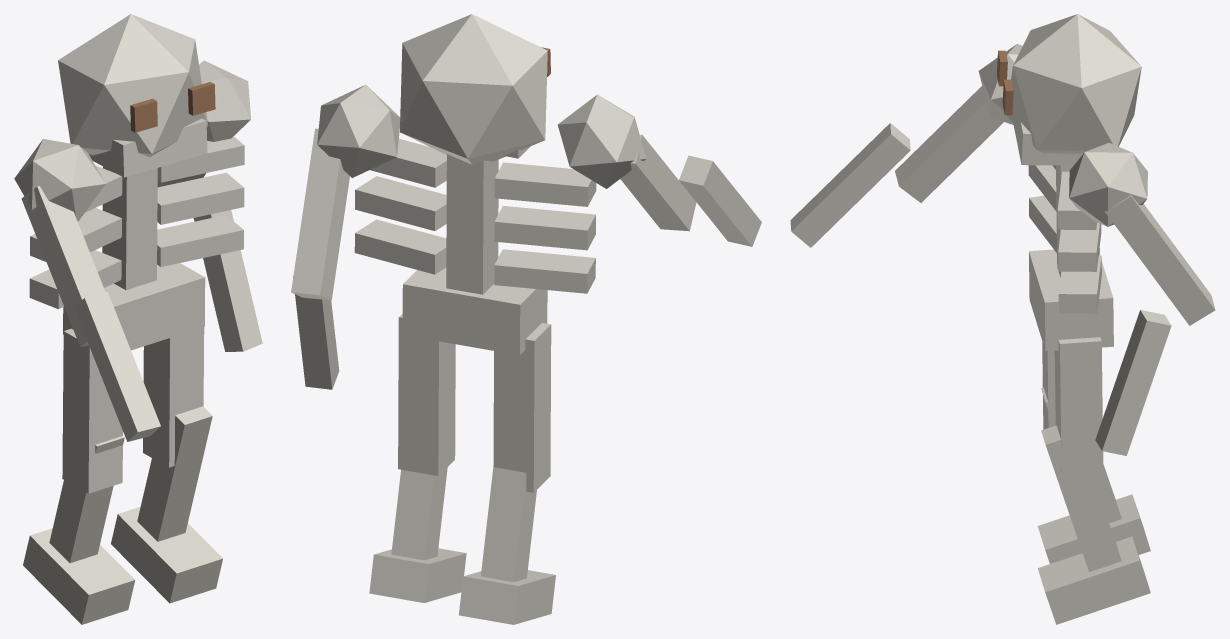
File: npcpose_skeleton_attack_07.glb
3 views of the same model, side by side, from view 1: azimuth 30°, elevation 25°; view 2: azimuth 150°, elevation 25°; view 3: azimuth 270°, elevation 25° (orthographic). The views are drawn at different scales.
Parts seen in each view (by area): view 1: npcpose; view 2: npcpose; view 3: npcpose.
Boxes of the visible parts, x1=… form: npcpose: x1=14, y1=14, x2=262, y2=624; npcpose: x1=291, y1=14, x2=761, y2=624; npcpose: x1=790, y1=14, x2=1215, y2=624.
Size of the model in its own units: 0.8474 by 1.65 by 1.11.
